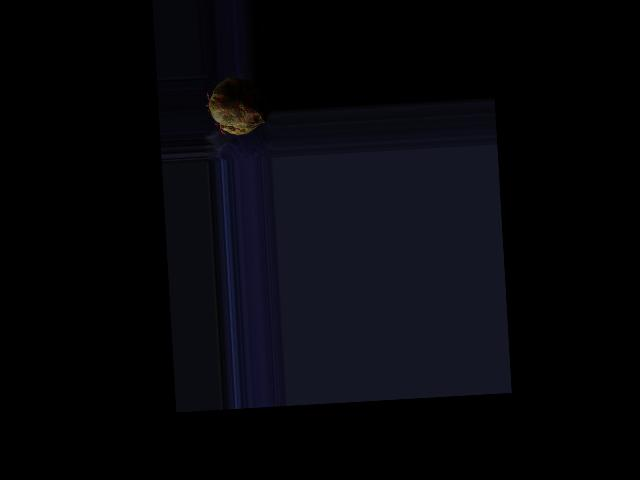beet: (205, 75, 270, 136)
